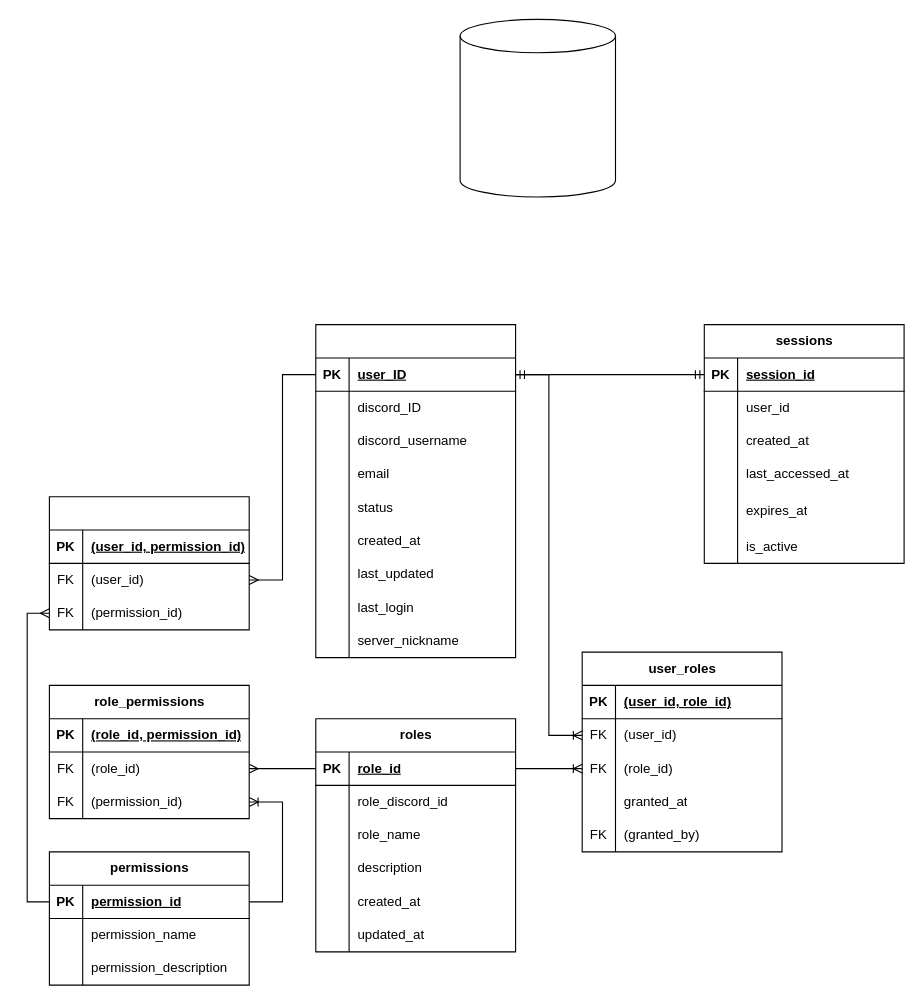
The diagram is 924 pixels wide and 1005 high, and some of its shapes have lost their labels. The shapes that lost their labels are listed below. From the top down, each one's box as (x1, y1, x2, y2) in pixels, then its label:
(315, 324, 516, 658): users
(48, 496, 249, 630): user_permissions
